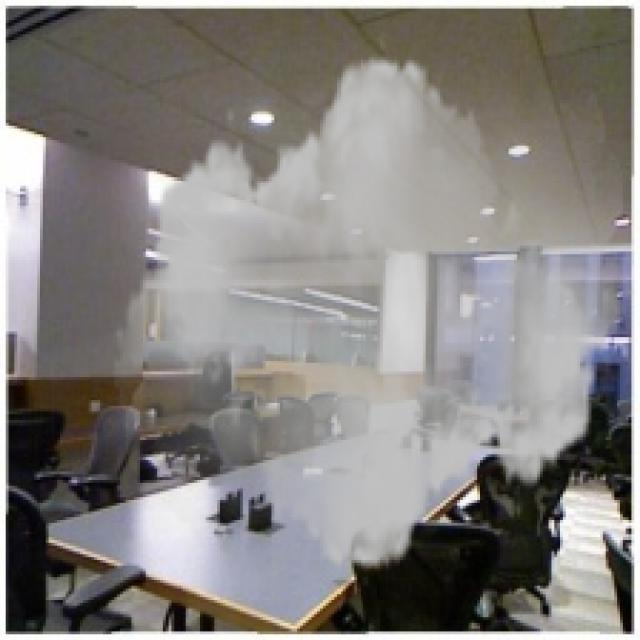Smoke: (115, 34, 634, 592)
